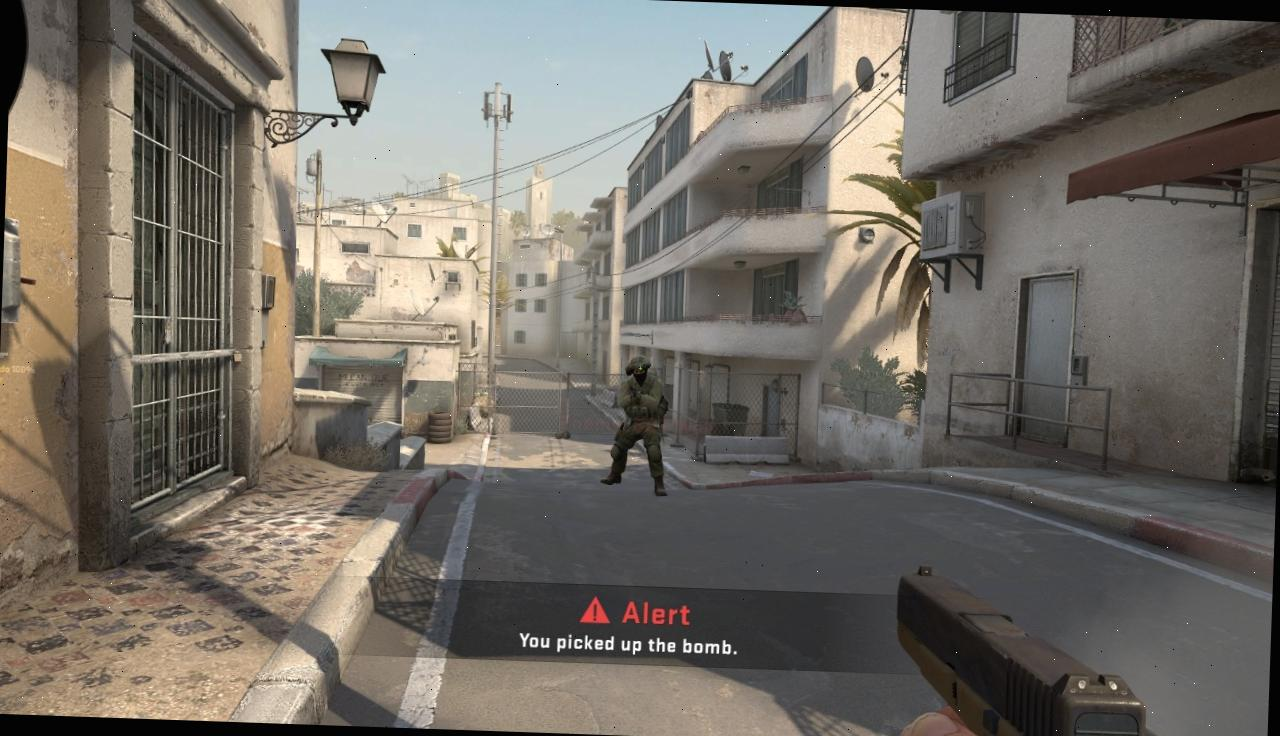ct: (607, 356, 670, 496)
cthead: (627, 356, 651, 383)
pistol: (888, 559, 1158, 736)
